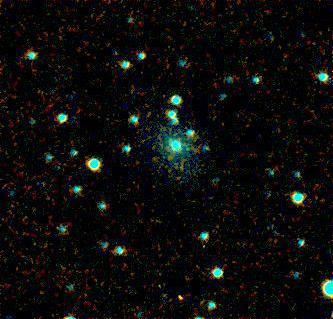star: (166, 282, 196, 312)
